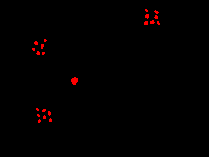Target: (71, 77, 78, 85), (154, 10, 159, 14), (145, 14, 149, 19), (150, 20, 155, 24), (154, 15, 158, 19), (144, 21, 148, 25), (34, 41, 38, 45), (36, 51, 40, 55), (41, 44, 44, 49), (48, 111, 51, 116), (157, 21, 160, 25), (42, 109, 46, 112), (43, 115, 46, 119), (49, 118, 52, 122), (38, 119, 41, 123), (145, 9, 148, 12), (44, 39, 47, 42), (32, 48, 35, 51), (42, 52, 45, 55), (36, 108, 39, 111), (37, 114, 40, 117)
